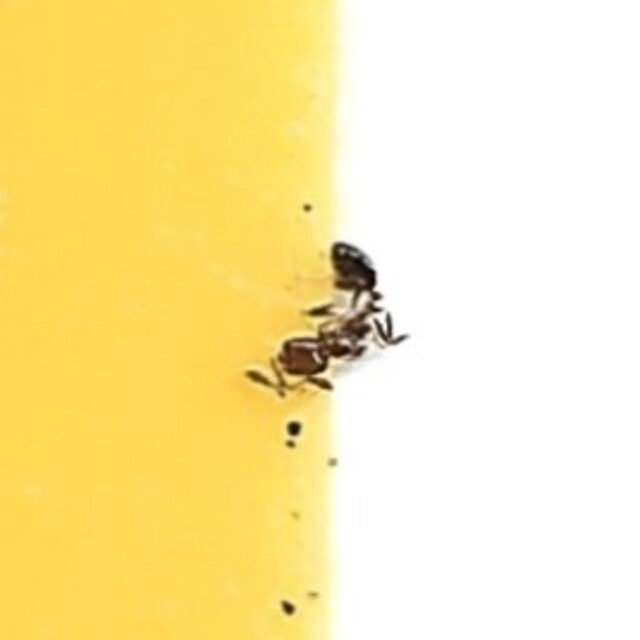Hymenoptera: (239, 233, 401, 407)
